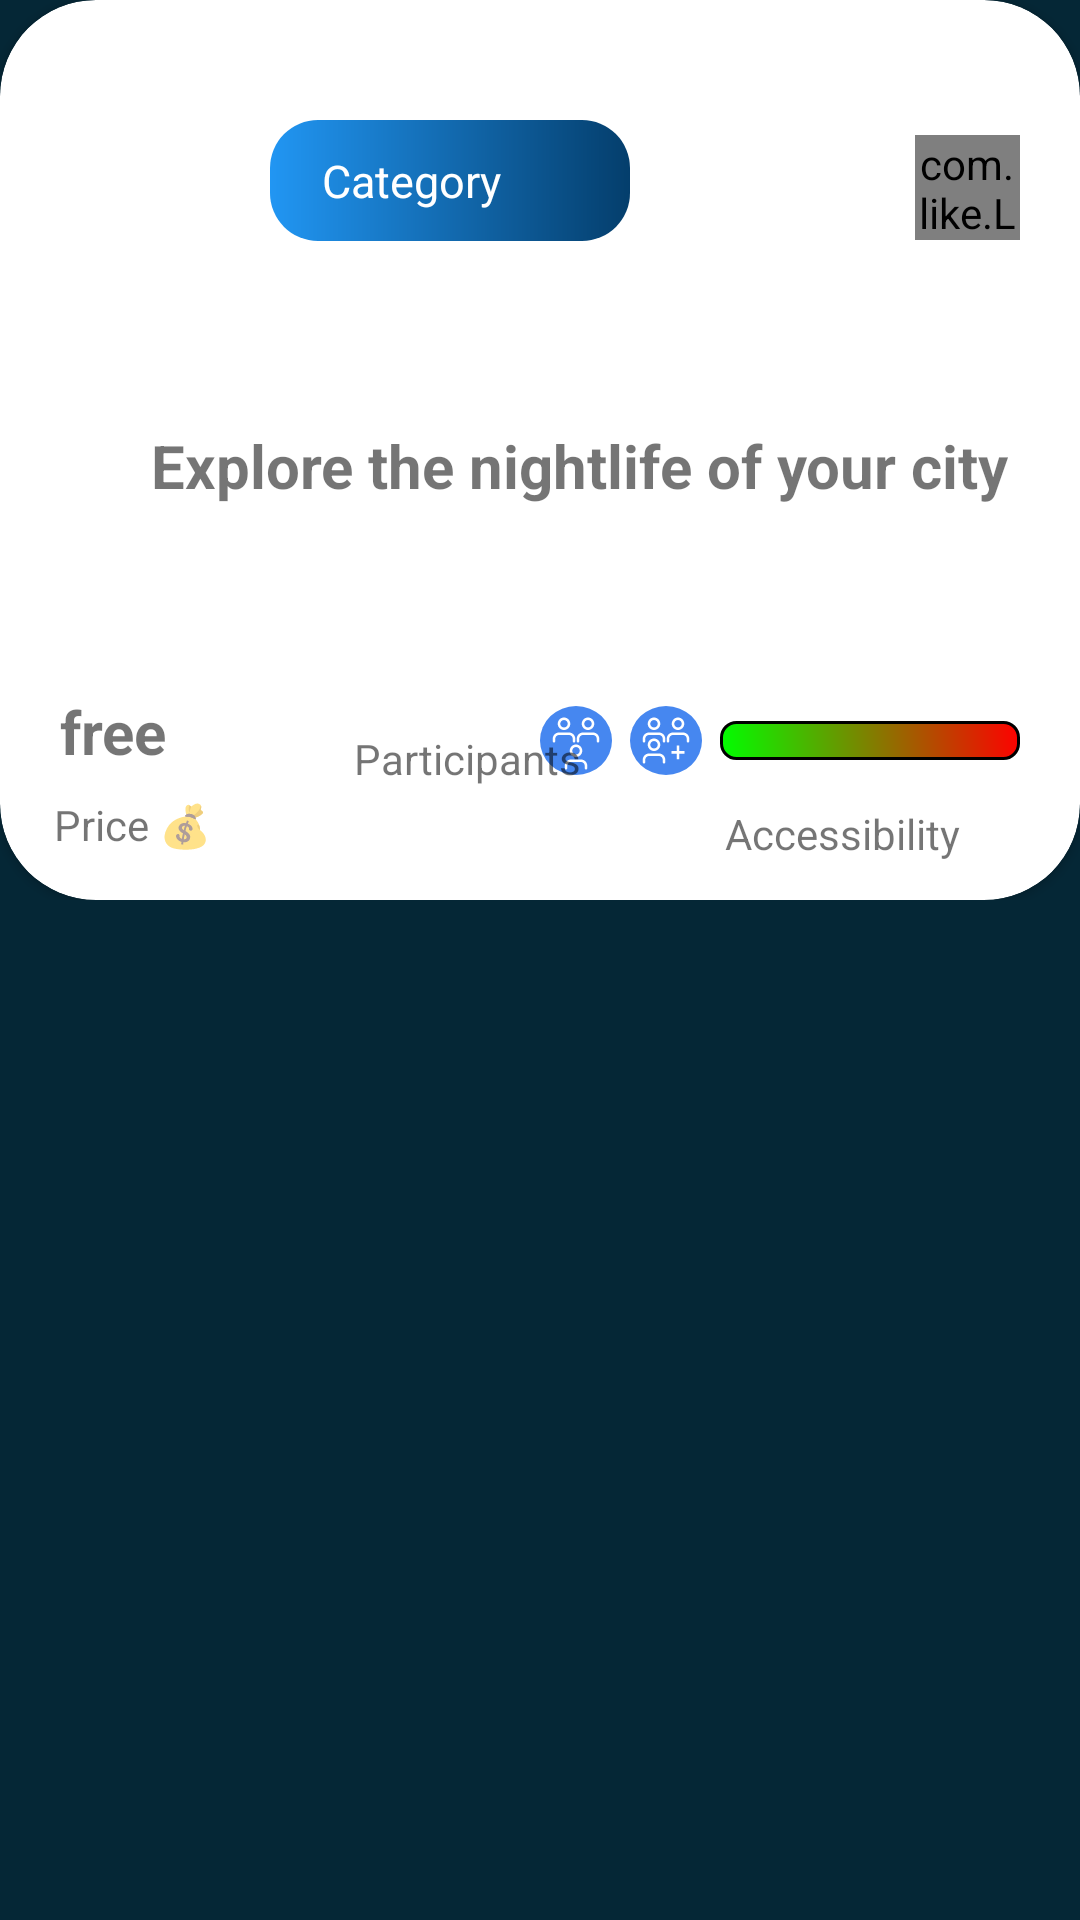

Where to tap for icons on this 1080px x 1920px app screen, as (x=x, y=y):
user: (x=576, y=740)
